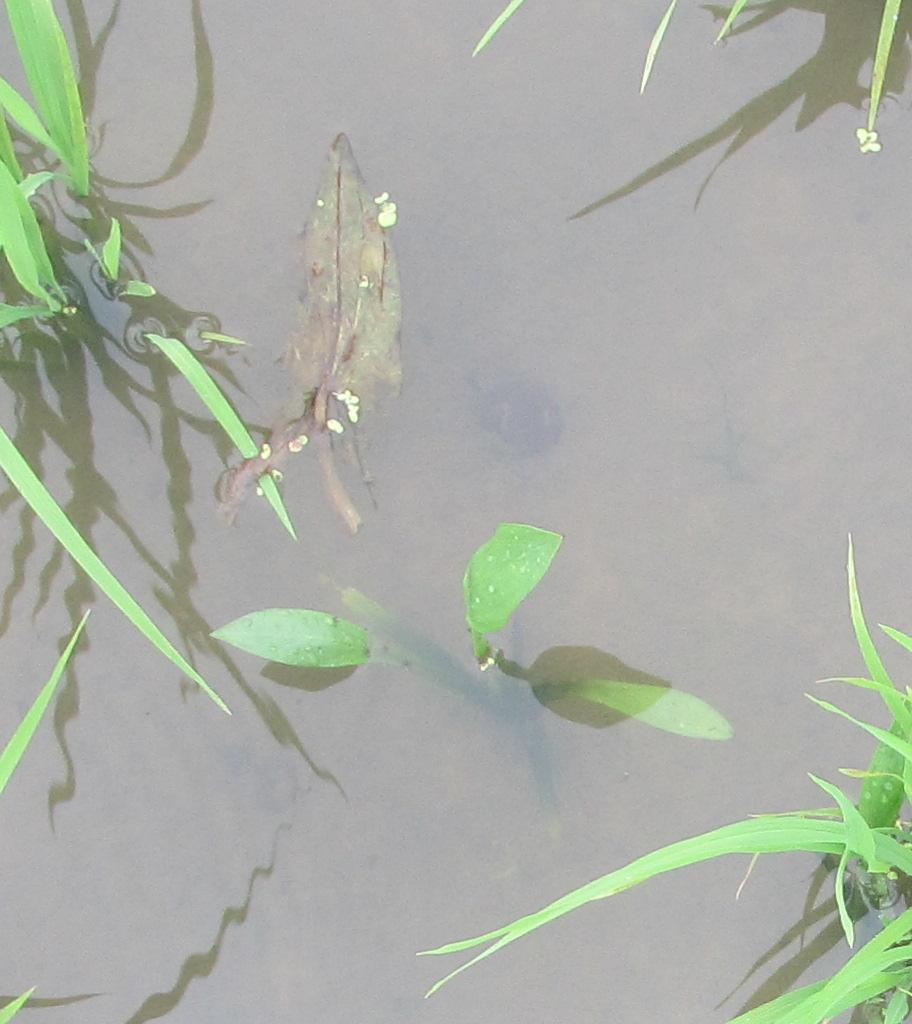Weed: (175, 521, 735, 752)
